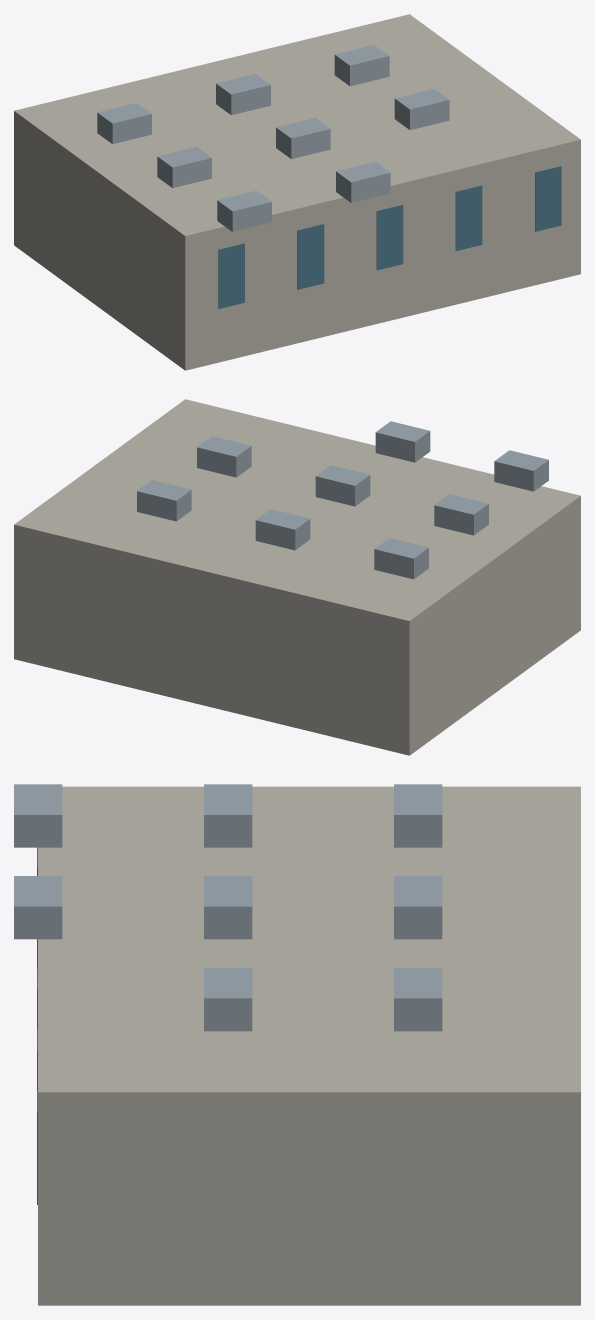
3 renders of one model, top to bottom at view 1: azimuth 30°, elevation 25°; view 2: azimuth 150°, elevation 25°; view 3: azimuth 270°, elevation 25°, orthographic. The views are drawn at different scales.
Visible parts, largest first — view 1: worldgen; view 2: worldgen; view 3: worldgen.
Part boxes in pixels (x1,y1,x2,y2): worldgen: (14,14,580,370); worldgen: (14,399,580,755); worldgen: (14,784,580,1305).
Size of the model in its own units: 60 by 22.5 by 47.
